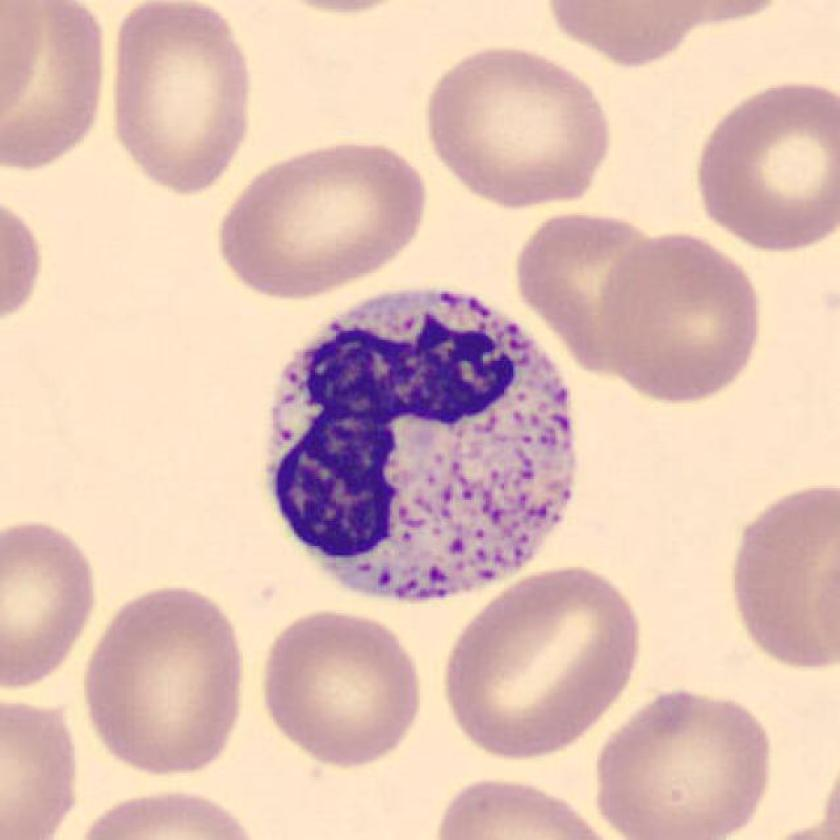neutrophil: (274, 285, 576, 598)
